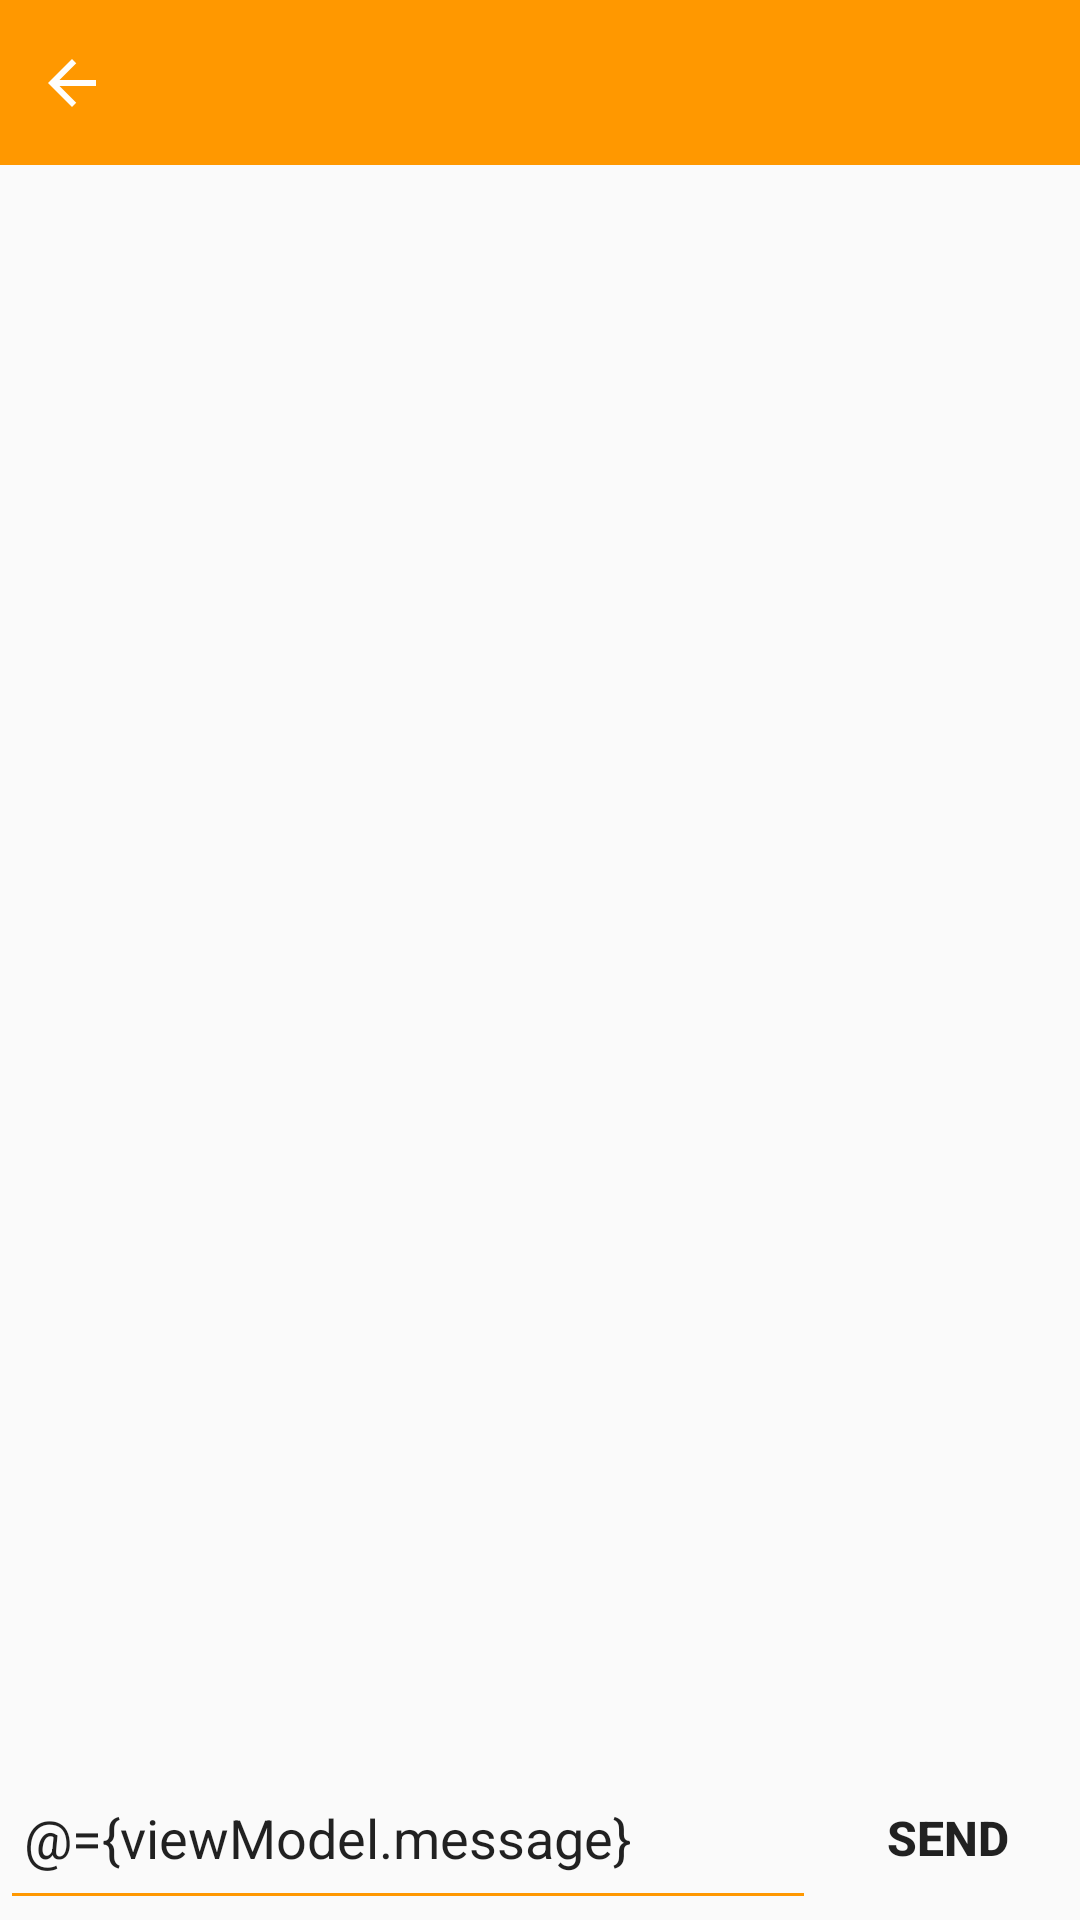

Screen size 1080px x 1920px. Icon name, then its center in pixels as [x,y]:
arrow back: [72,83]
